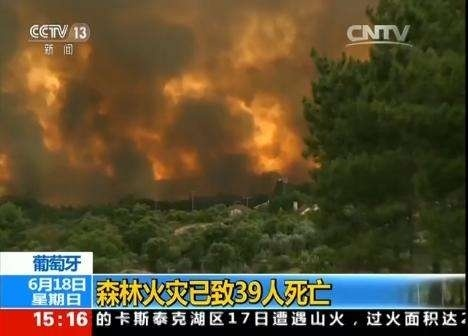fire: (1, 23, 317, 186)
